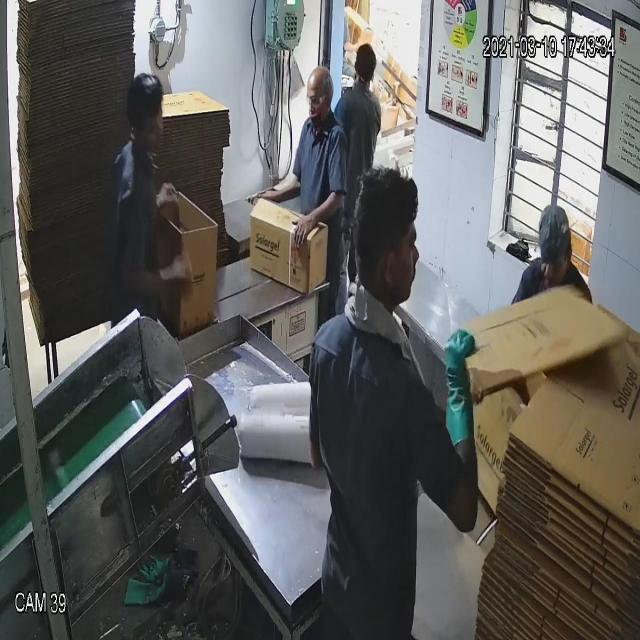No_Gloves: (56, 60, 465, 394)
